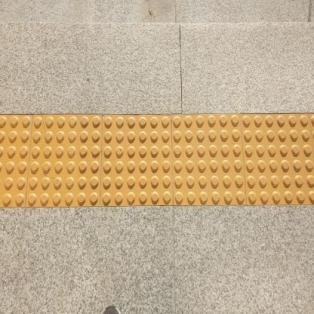Podoctatil: (0, 106, 313, 214)
